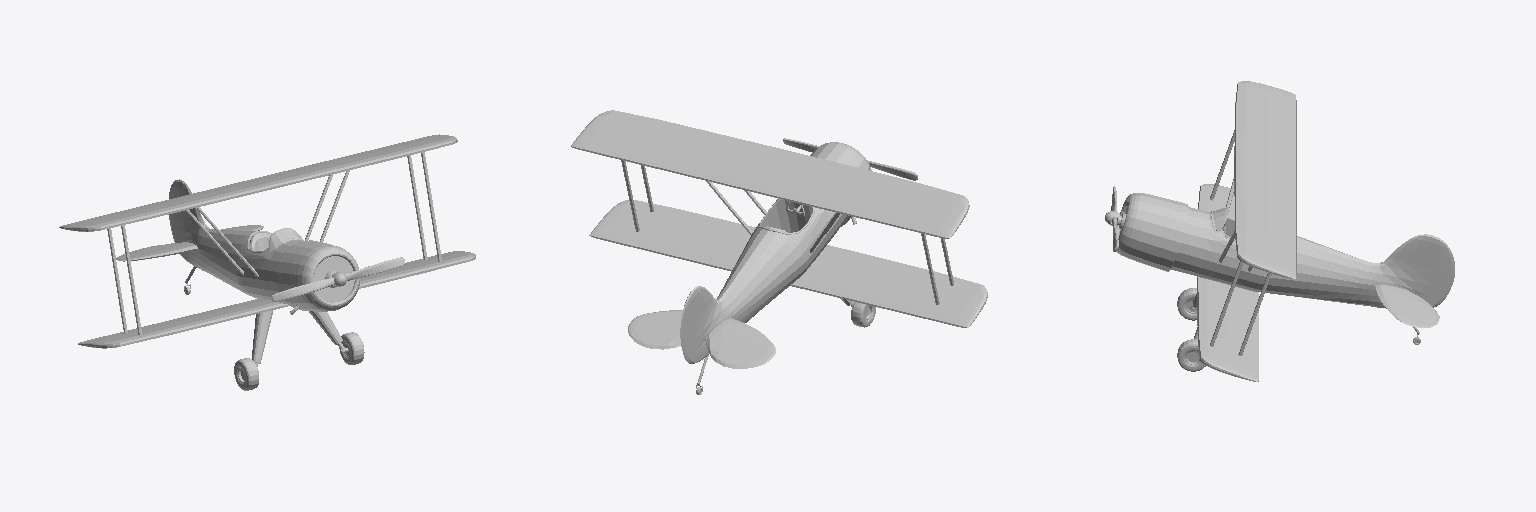
Rendered from uploads_files_853270_Plane.obj.
The picture shows the model from 3 angles: view 1: azimuth 30°, elevation 25°; view 2: azimuth 150°, elevation 25°; view 3: azimuth 270°, elevation 25°; orthographic projection.
Visible parts, largest first — view 1: Fuselage__wings__disks__etc, Black__tires__sticks__etc_, Chrome__propeller_steering_; view 2: Fuselage__wings__disks__etc, Black__tires__sticks__etc_, Chrome__propeller_steering_; view 3: Fuselage__wings__disks__etc, Black__tires__sticks__etc_.
Boxes of the visible parts, x1,y1,x2,y2 form: Fuselage__wings__disks__etc: [59, 134, 475, 382]; Black__tires__sticks__etc_: [107, 152, 441, 390]; Chrome__propeller_steering_: [184, 257, 404, 366]; Fuselage__wings__disks__etc: [571, 110, 987, 392]; Black__tires__sticks__etc_: [621, 160, 953, 394]; Chrome__propeller_steering_: [696, 138, 917, 389]; Fuselage__wings__disks__etc: [1116, 81, 1454, 381]; Black__tires__sticks__etc_: [1119, 130, 1420, 371].
Size of the model in its own units: 238 by 106 by 191.